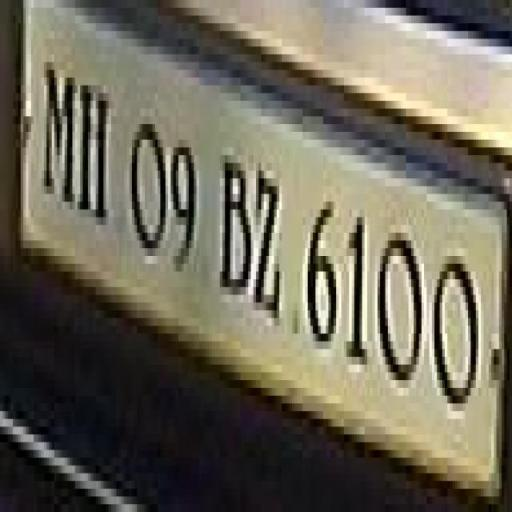number plate: (13, 24, 512, 442)
